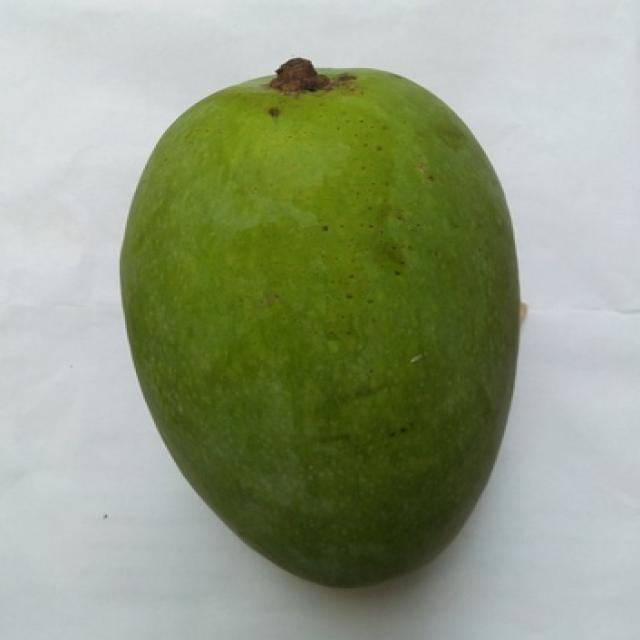Mango: (121, 70, 517, 585)
